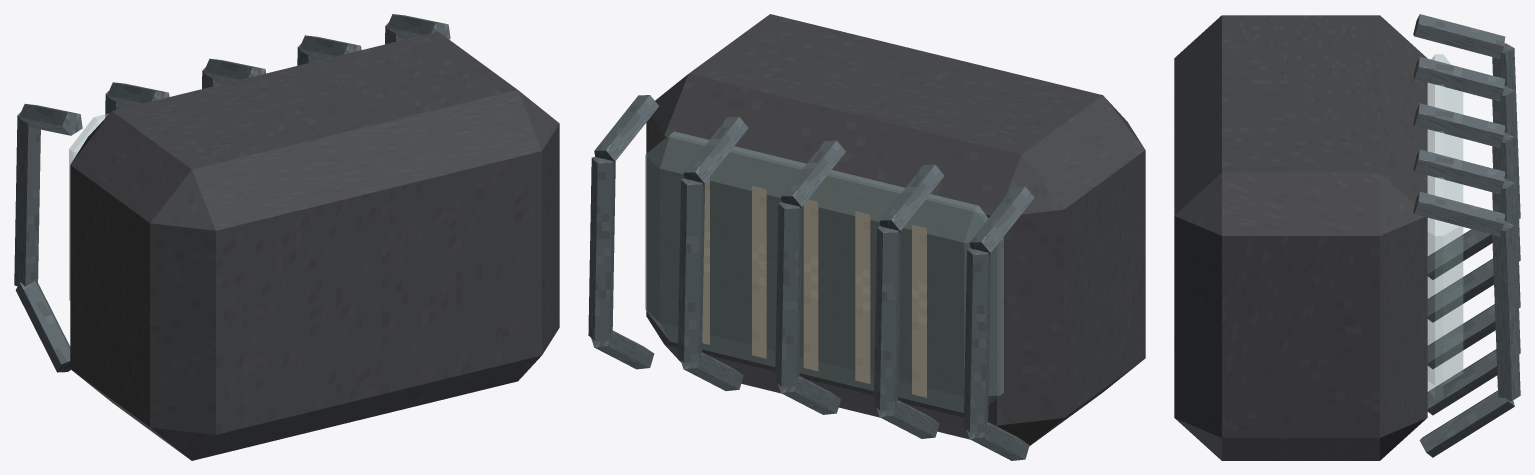
File: headlight_reinforced.glb
3 views of the same model, side by side, from view 1: azimuth 30°, elevation 25°; view 2: azimuth 150°, elevation 25°; view 3: azimuth 270°, elevation 25° (orthographic). The views are drawn at different scales.
Visible parts, largest first — view 1: block_light housing, block_metal protective cage 0 (×5), block_metal protective cage 1, block_metal protective cage 2, block_fluted glass lens; view 2: block_light housing, block_fluted glass lens, block_metal protective cage 1 (×5), block_reflector line (×5), block_metal protective cage 0 (×5), block_metal protective cage 2 (×5); view 3: block_light housing, block_metal protective cage 0 (×5), block_metal protective cage 2 (×5), block_fluted glass lens, block_metal protective cage 1 (×5).
Part boxes in pixels (<box>): block_light housing: <box>70,31,559,460</box>; block_metal protective cage 0 (×5): <box>19,14,450,135</box>; block_metal protective cage 1: <box>14,112,40,286</box>; block_metal protective cage 2: <box>15,281,70,372</box>; block_fluted glass lens: <box>69,113,109,300</box>; block_light housing: <box>646,14,1145,445</box>; block_fluted glass lens: <box>645,131,1003,412</box>; block_metal protective cage 1 (×5): <box>588,156,990,432</box>; block_reflector line (×5): <box>702,177,926,397</box>; block_metal protective cage 0 (×5): <box>594,95,1034,254</box>; block_metal protective cage 2 (×5): <box>591,330,1029,460</box>; block_light housing: <box>1174,15,1427,460</box>; block_metal protective cage 0 (×5): <box>1413,14,1505,236</box>; block_metal protective cage 2 (×5): <box>1419,229,1514,457</box>; block_fluted glass lens: <box>1427,54,1463,399</box>; block_metal protective cage 1 (×5): <box>1492,43,1520,400</box>.
Size of the model in its own units: 0.191 by 0.1299 by 0.1414.
2 materials, 2 textured.
